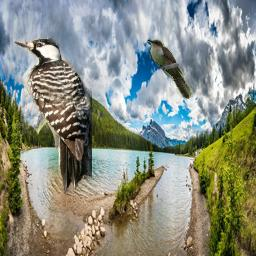Cuckoo: (146, 38, 193, 99)
Woodpecker: (13, 38, 92, 196)
